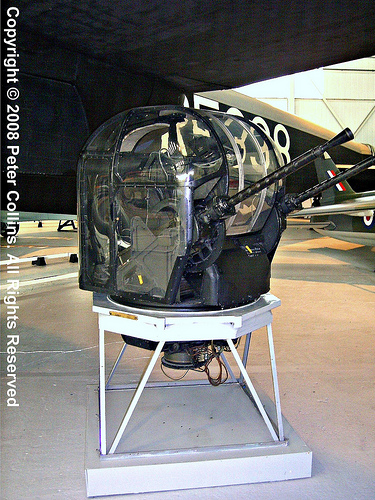rifle: (96, 103, 371, 340)
